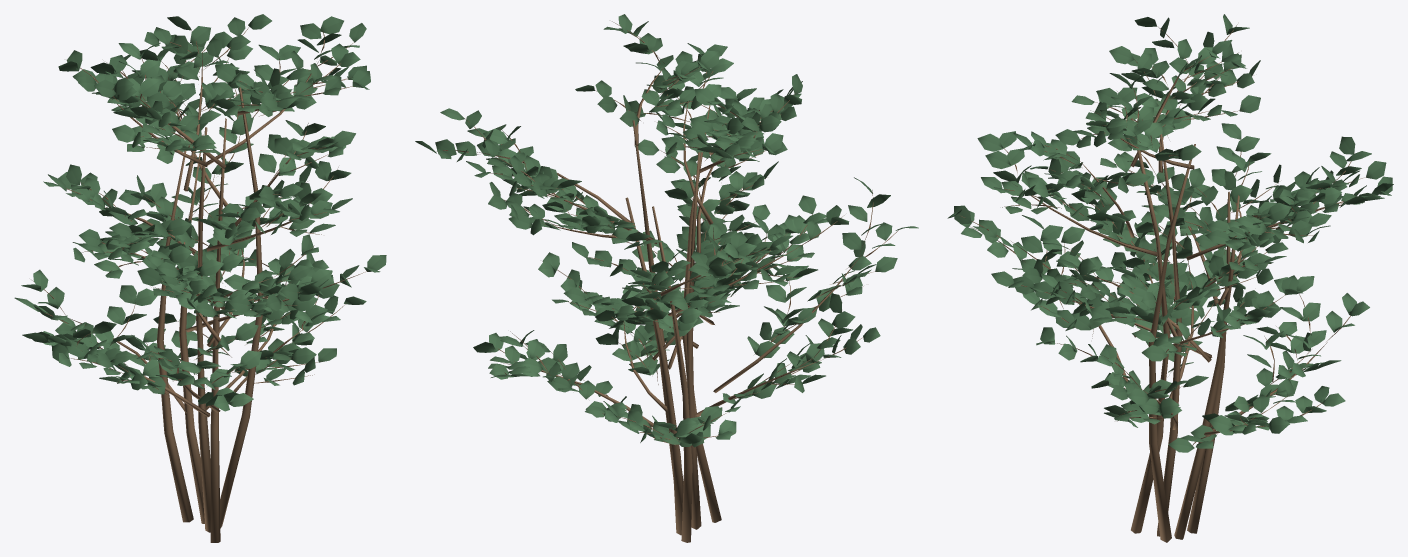
File: Myrte_1_LOD1.fbx
3 renders of one model, left to right at view 1: azimuth 30°, elevation 25°; view 2: azimuth 150°, elevation 25°; view 3: azimuth 270°, elevation 25°, orthographic. The views are drawn at different scales.
Parts seen in each view (by area): view 1: Myrte_1_LOD1; view 2: Myrte_1_LOD1; view 3: Myrte_1_LOD1.
Part boxes in pixels (x1,y1,x2,y2): Myrte_1_LOD1: [14, 14, 386, 542]; Myrte_1_LOD1: [415, 14, 918, 542]; Myrte_1_LOD1: [947, 14, 1393, 542].
Size of the model in its own units: 196 by 225 by 192.
